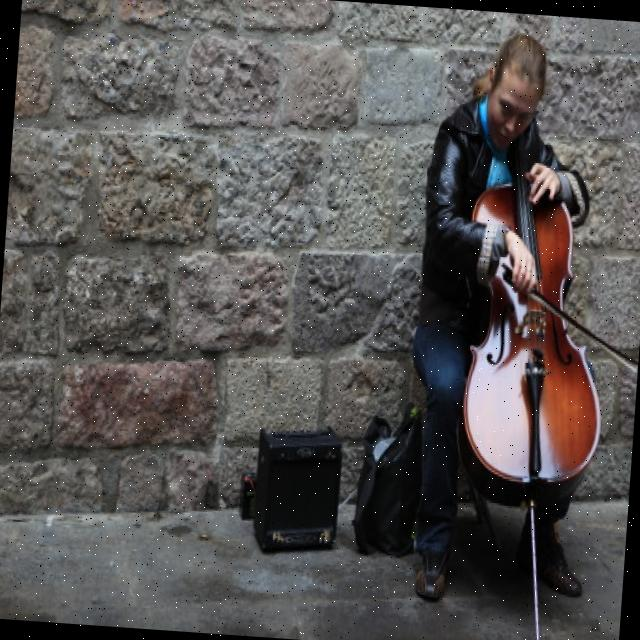cello: (451, 119, 616, 518)
